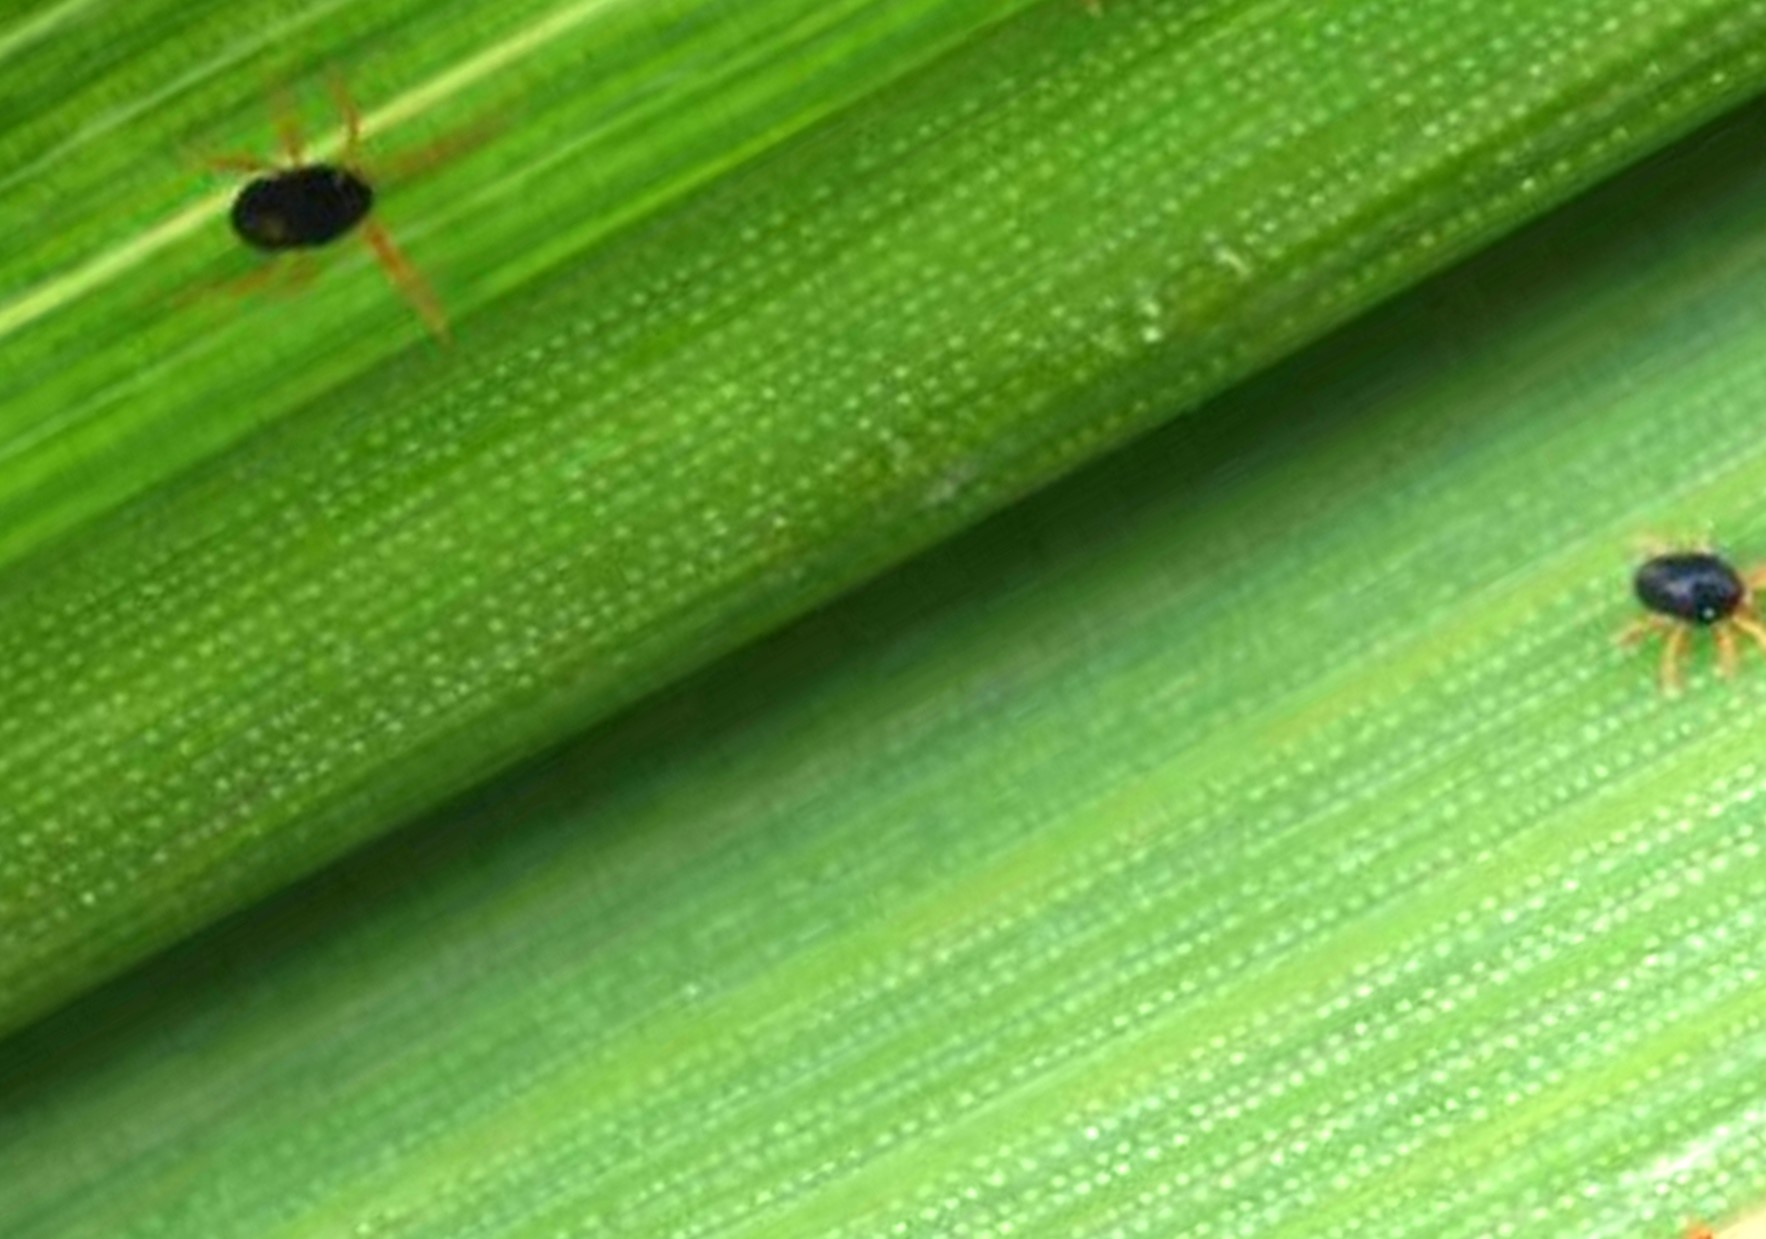Wheat Red Spider: (119, 39, 568, 387)
